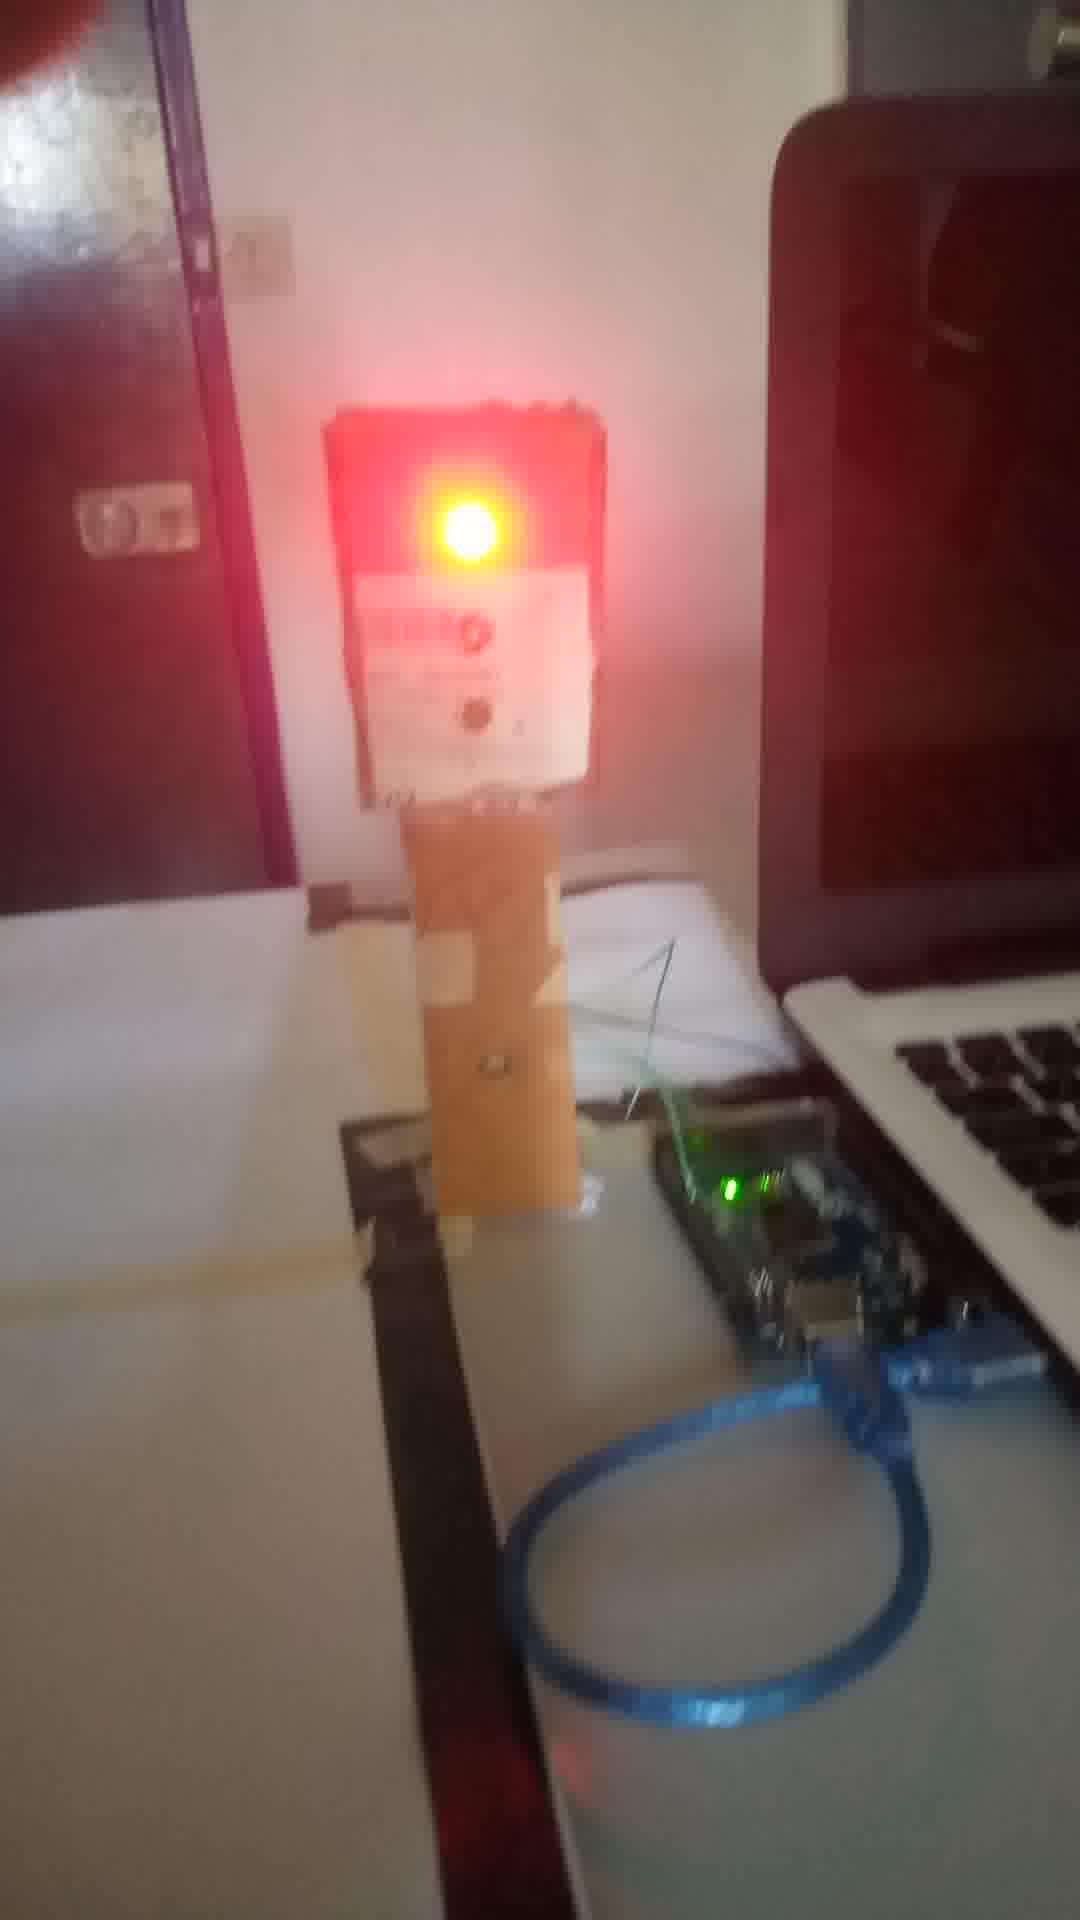red: (327, 411, 621, 791)
